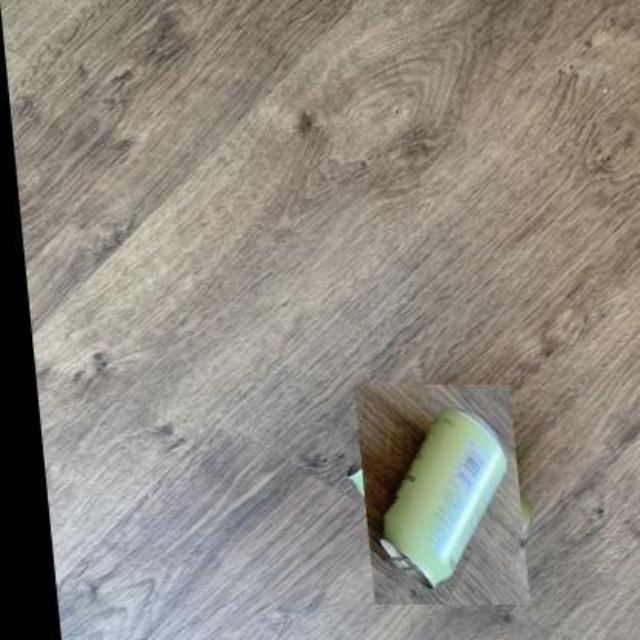trash: (382, 409, 506, 585)
